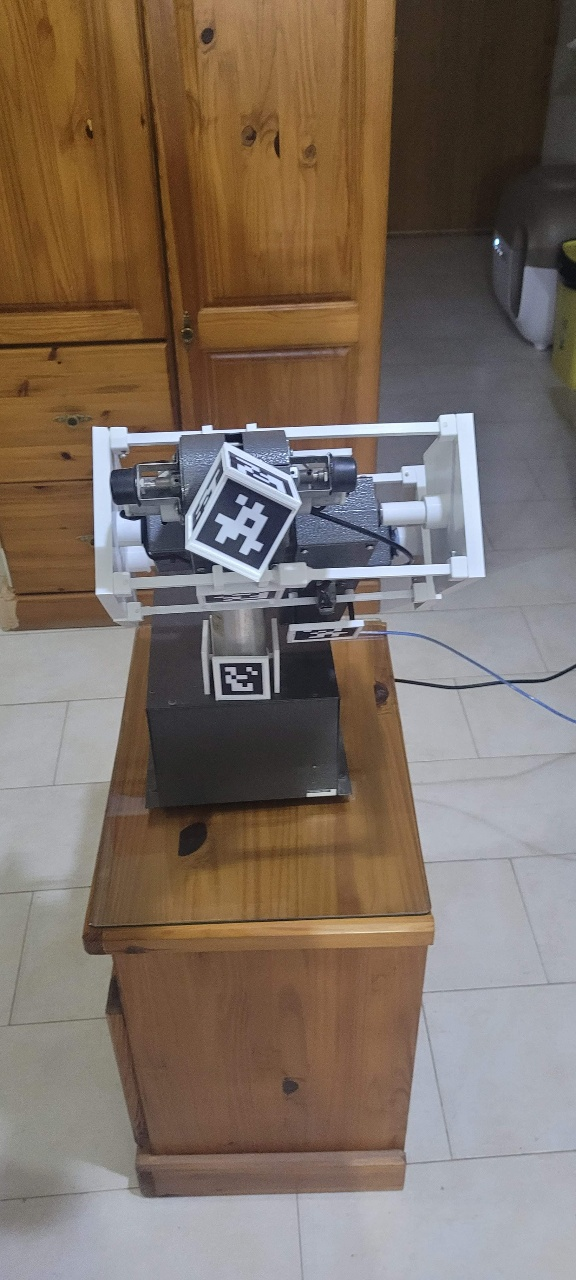Robot: (40, 418, 565, 1094)
